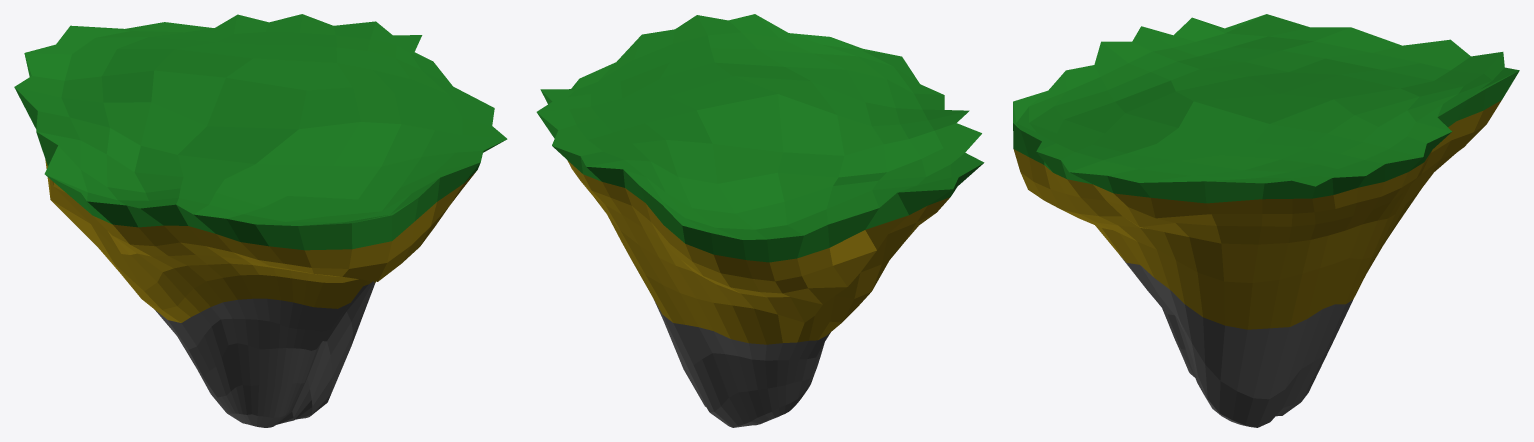
File: Platform_ground_1.fbx
3 renders of one model, left to right at view 1: azimuth 30°, elevation 25°; view 2: azimuth 150°, elevation 25°; view 3: azimuth 270°, elevation 25°, orthographic. The views are drawn at different scales.
Visible parts, largest first — view 1: Sphere; view 2: Sphere; view 3: Sphere.
Boxes of the visible parts, x1,y1,x2,y2 form: Sphere: [14, 14, 507, 427]; Sphere: [536, 14, 984, 427]; Sphere: [1013, 14, 1519, 427].
Size of the model in its own units: 281 by 213 by 307.
